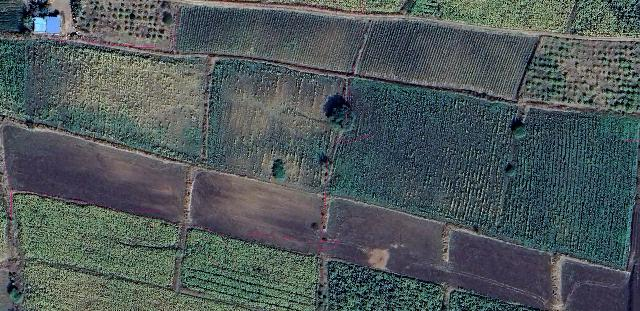EmptyFarms: (190, 172, 553, 311), (3, 124, 188, 225), (564, 261, 640, 311)
Farms: (324, 80, 640, 267), (0, 38, 210, 166), (211, 60, 347, 194), (14, 195, 183, 291), (356, 19, 539, 99), (174, 4, 367, 78), (21, 260, 297, 311), (181, 232, 319, 311), (330, 262, 546, 311), (518, 35, 640, 112)
